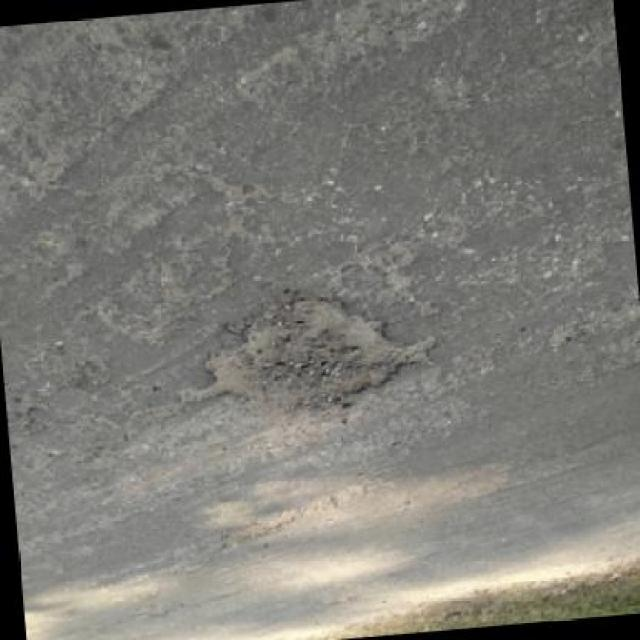pothole1: (168, 283, 446, 429)
